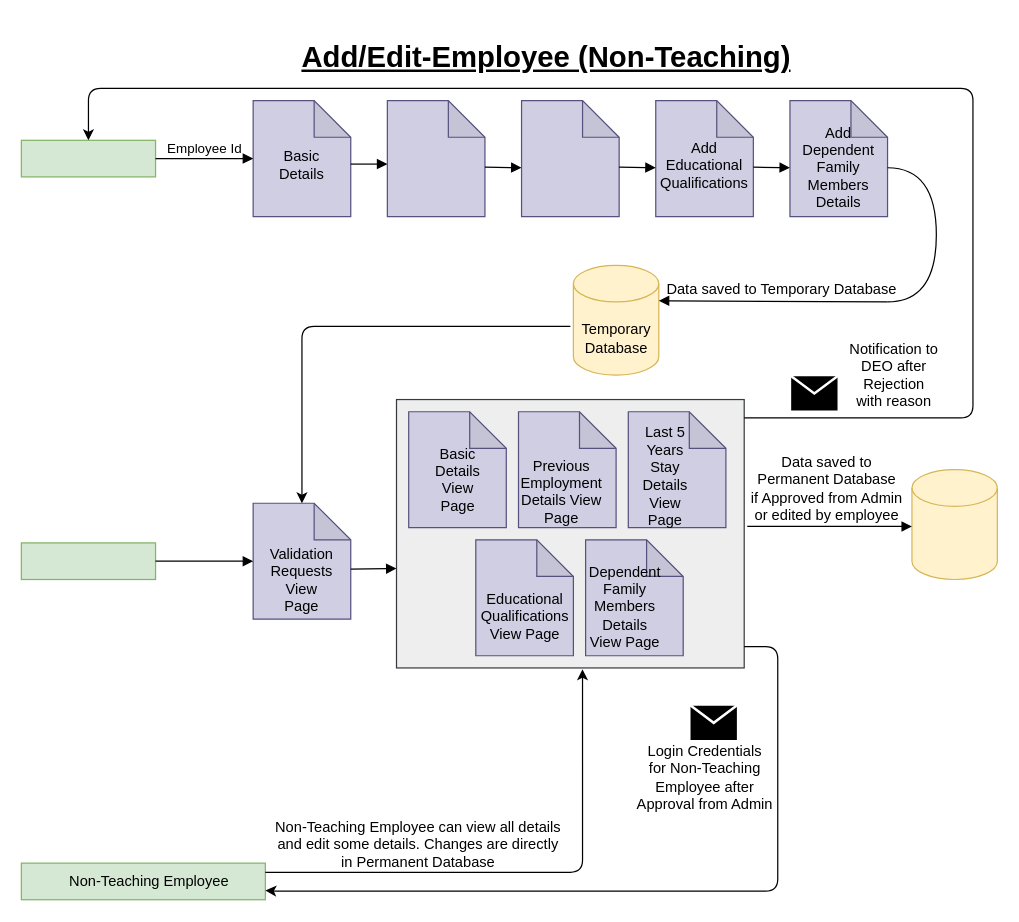
This 1019x922 diagram has some shape labels left out. The shapes that lost their labels are listed below. From the top down, each one's box as (x1, y1, x2, y2) in pixels, then its label:
(20, 139, 156, 177): DEO
(386, 99, 485, 217): Add Previous Employment Details
(520, 99, 619, 217): Add Last 5 Years Stay Details
(911, 468, 997, 580): Permanent Database
(20, 542, 156, 580): Admin
